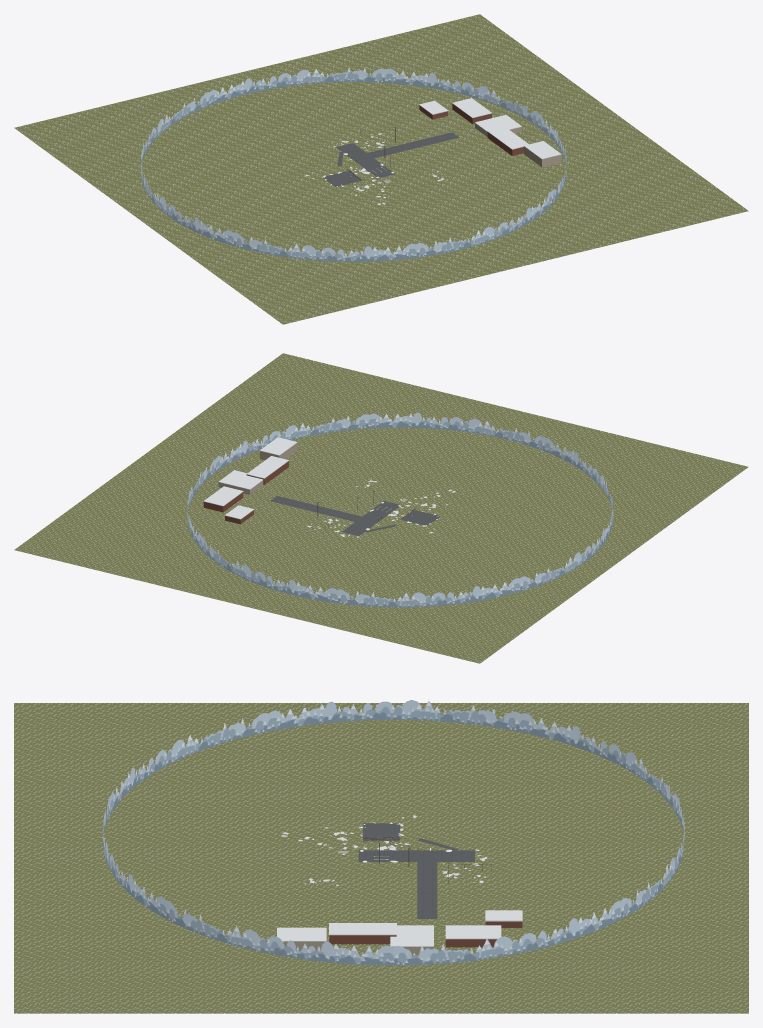
File: park.glb
The picture shows the model from 3 angles, top to bottom: view 1: azimuth 30°, elevation 25°; view 2: azimuth 150°, elevation 25°; view 3: azimuth 270°, elevation 25°; orthographic projection. The views are drawn at different scales.
Visible parts, largest first — view 1: Lawn, TreelineRing, SnowLying, ParkingLot, Road; view 2: Lawn, TreelineRing, SnowLying, ParkingLot, Road; view 3: Lawn, TreelineRing, SnowLying, ParkingLot, Road, Court, Building2.
Part boxes in pixels (x1,y1,x2,y2): Lawn: (14, 14, 748, 324); TreelineRing: (141, 67, 566, 261); SnowLying: (305, 98, 561, 204); ParkingLot: (336, 143, 395, 178); Road: (367, 132, 459, 158); Lawn: (14, 353, 748, 663); TreelineRing: (187, 412, 613, 607); SnowLying: (203, 437, 455, 537); ParkingLot: (342, 501, 401, 536); Road: (270, 496, 361, 521); Lawn: (14, 703, 748, 1013); TreelineRing: (102, 700, 684, 965); SnowLying: (277, 815, 522, 946); ParkingLot: (358, 850, 474, 861); Road: (417, 862, 437, 918); Court: (363, 823, 399, 840); Building2: (329, 935, 396, 944).
Size of what is drawn, in the model's own units: 240 by 11 by 240.
Materials: 19 (6 with a texture image).
